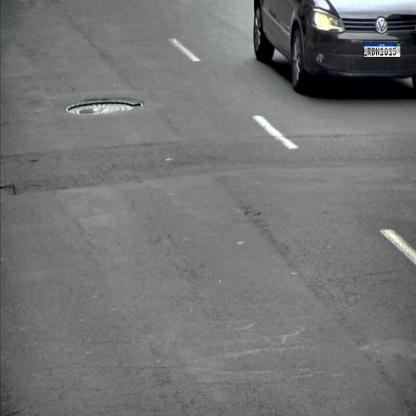PlacaM: (363, 42, 401, 58)
